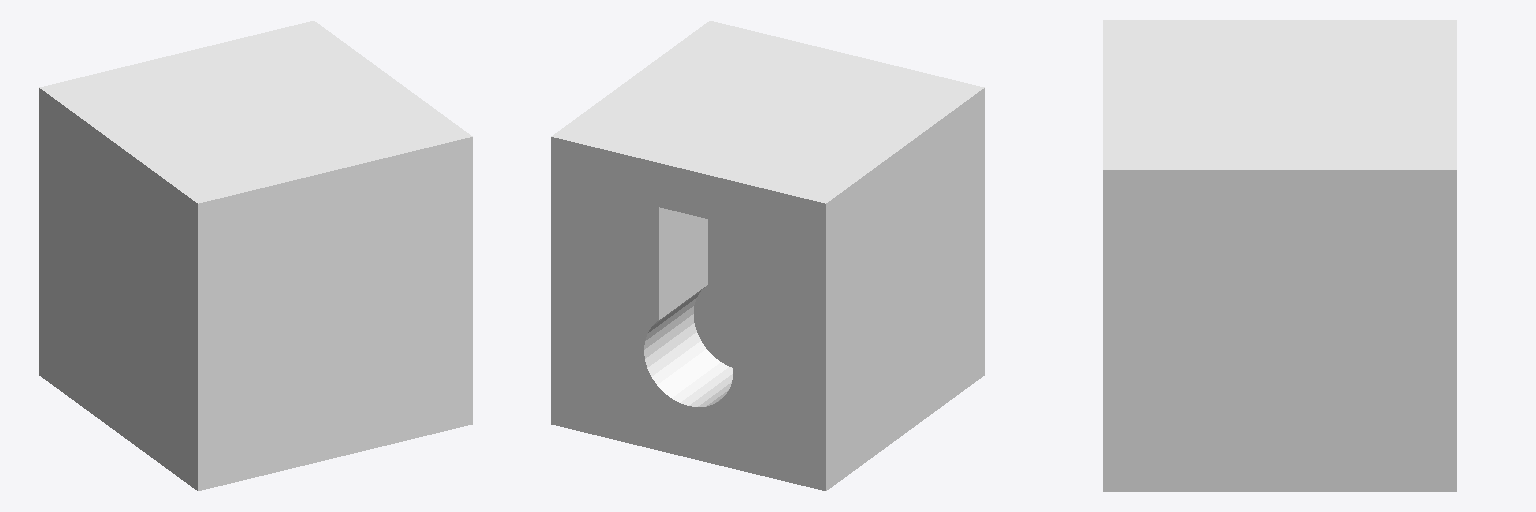
robot.urdf — Key_cube_bottle_preprocessed:
<?xml version="1.0" ?>
<robot name="Key_cube_bottle_preprocessed">
  <link name="baseLink">
    <contact>
    	<friction_anchor/>
    	   <lateral_friction value="1.0"/>
    </contact>
    <inertial>
      <origin rpy="0 0 0" xyz="0 0 0"/>
       <!-- mass controls penetration -->
       <mass value=".5"/>
       <inertia ixx="1e-4" ixy="0" ixz="0" iyy="1e-4" iyz="0" izz="1e-4"/>
    </inertial>
    <visual>
      <origin rpy="0 0 0" xyz="0 0 0"/>
      <geometry>
        <mesh filename="Key_cube_bottle_preprocessed.obj"/>
      </geometry>
       <material name="white">
        <color rgba="1 1 1 1"/>
      </material>
    </visual>
    <collision>
      <origin rpy="0 0 0" xyz="0 0 0"/>
      <geometry>
        <mesh filename="Key_cube_bottle_preprocessed.obj"/>
      </geometry>
    </collision>
  </link>
</robot>

--- What the picture shows (computed from the rendered views, not written in the file) ---
3 views of the same robot in one strip: view 1: azimuth 30°, elevation 25°; view 2: azimuth 150°, elevation 25°; view 3: azimuth 270°, elevation 25° (orthographic).
Model Key_cube_bottle_preprocessed with 1 links and 0 joints (none), rooted at baseLink, posed every joint at zero.
Visible links, largest first — view 1: baseLink; view 2: baseLink; view 3: baseLink.
Link boxes in pixels (x1,y1,x2,y2): baseLink: (39,21,472,490); baseLink: (551,21,984,490); baseLink: (1103,20,1456,491).
Bounding box of the posed robot: 0.08 × 0.08 × 0.08 m (x, y, z).
1 mesh visuals loaded from 1 distinct referenced files (1 OBJ).